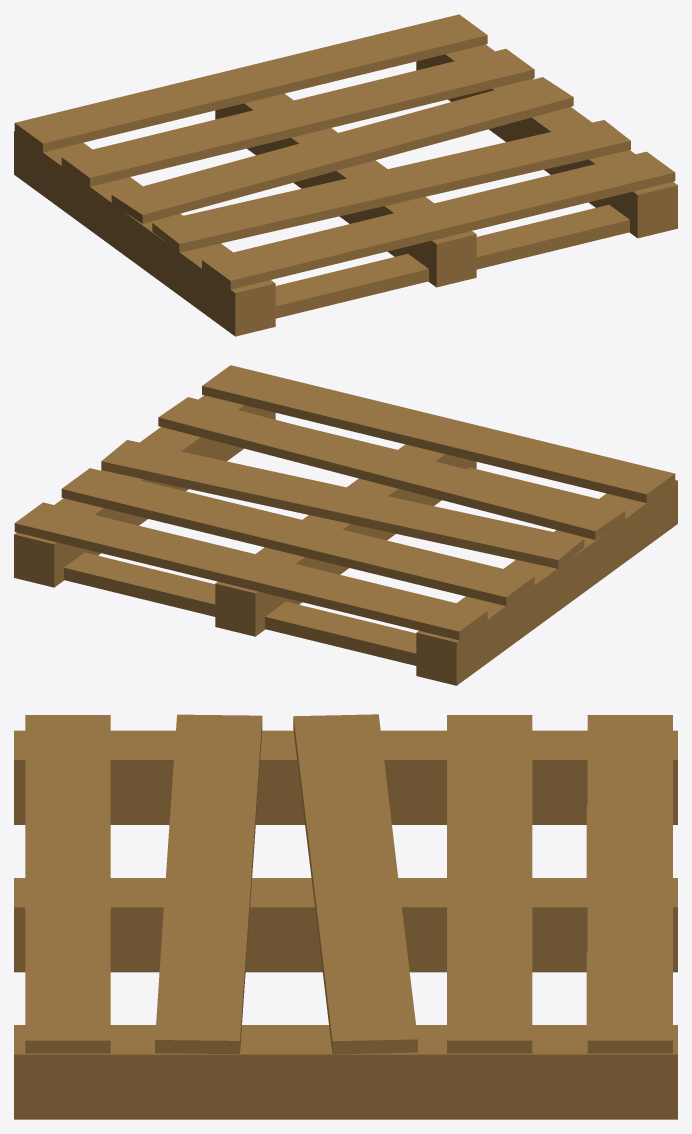
File: quaternius-toon-shooter-game-pallet.glb
3 views of the same model, one above another, from view 1: azimuth 30°, elevation 25°; view 2: azimuth 150°, elevation 25°; view 3: azimuth 270°, elevation 25° (orthographic). The views are drawn at different scales.
Parts seen in each view (by area): view 1: Pallet; view 2: Pallet; view 3: Pallet.
Part boxes in pixels (box(x1,y1,x2,y2)): Pallet: box(14, 14, 677, 336); Pallet: box(14, 365, 677, 685); Pallet: box(14, 714, 677, 1119).
Size of the model in its own units: 1.7 by 0.1932 by 1.46.
